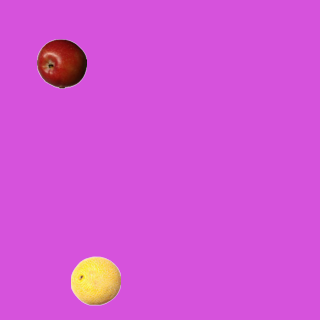Apple Braeburn: (36, 38, 86, 88)
Cantaloupe 1: (70, 255, 120, 305)
